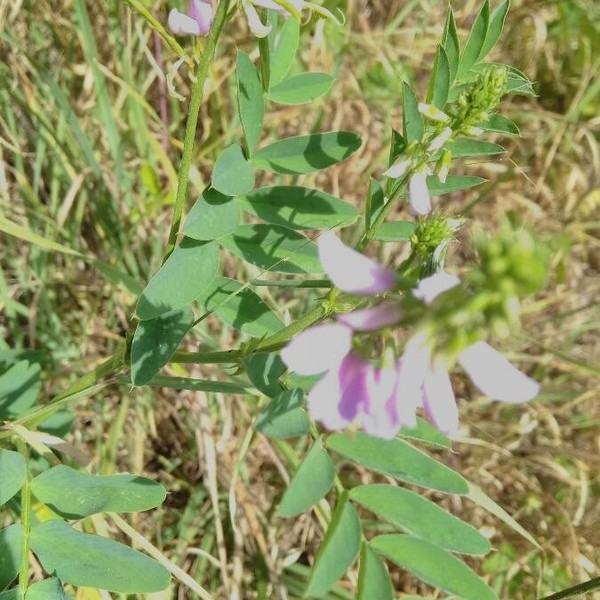obstacle: (146, 5, 516, 551)
